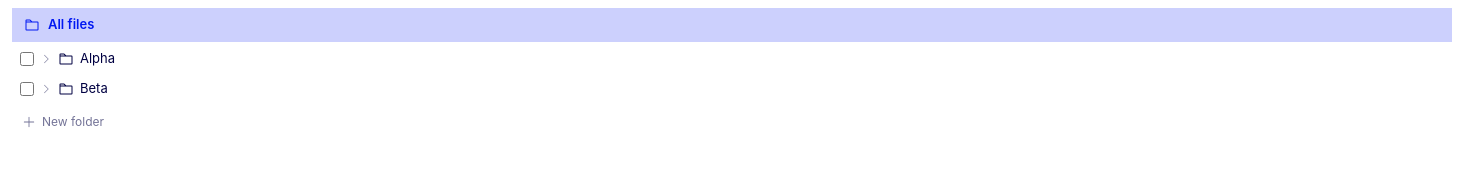
it: FolderTree › expanding a folder reveals its child
Check: the text "Alpha" is shown, box [80, 49, 115, 68]
Check: the text "Sub Alpha" is not shown
What coordinates should you click on to do the following:
click the button named "Expand Alpha"
I would click on:
 (46, 58)
Its box is [36, 48, 56, 68].
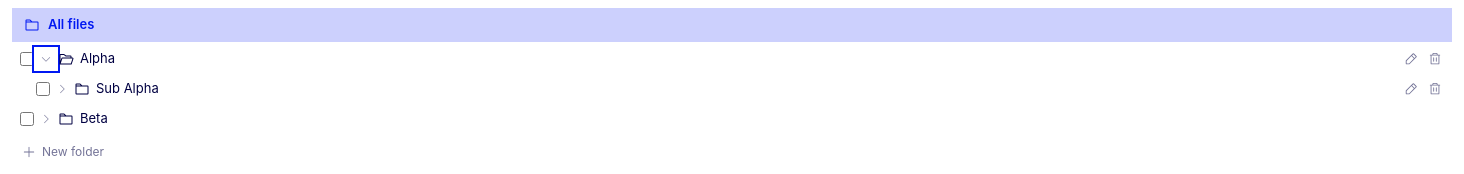
Check: the text "Sub Alpha" is shown, box [96, 79, 159, 98]
